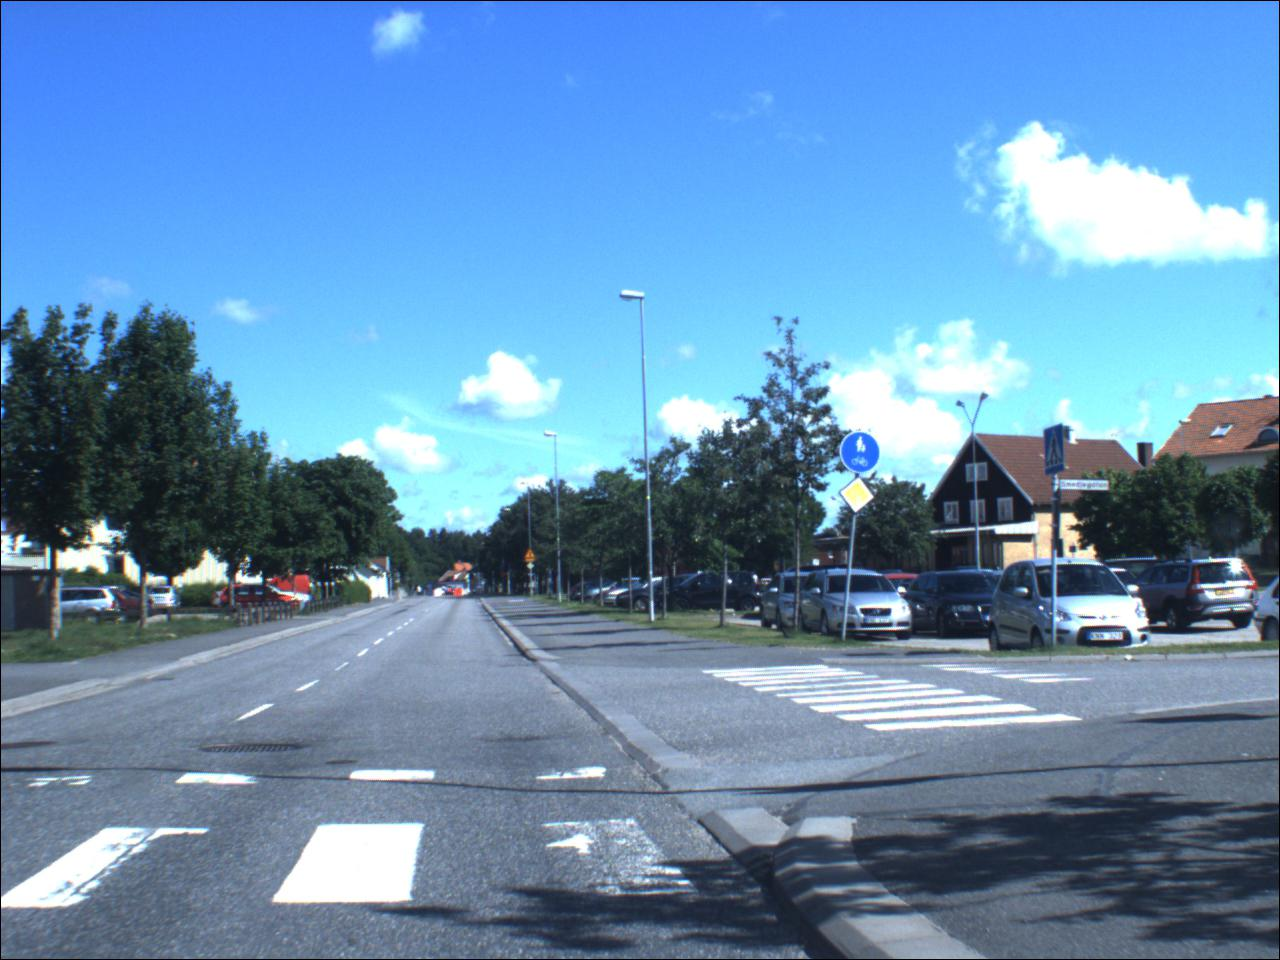PEDESTRIAN_CROSSING: (1044, 426, 1067, 476)
PRIORITY_ROAD: (842, 479, 876, 516), (529, 563, 538, 573)
WARNING: (525, 550, 537, 561)
